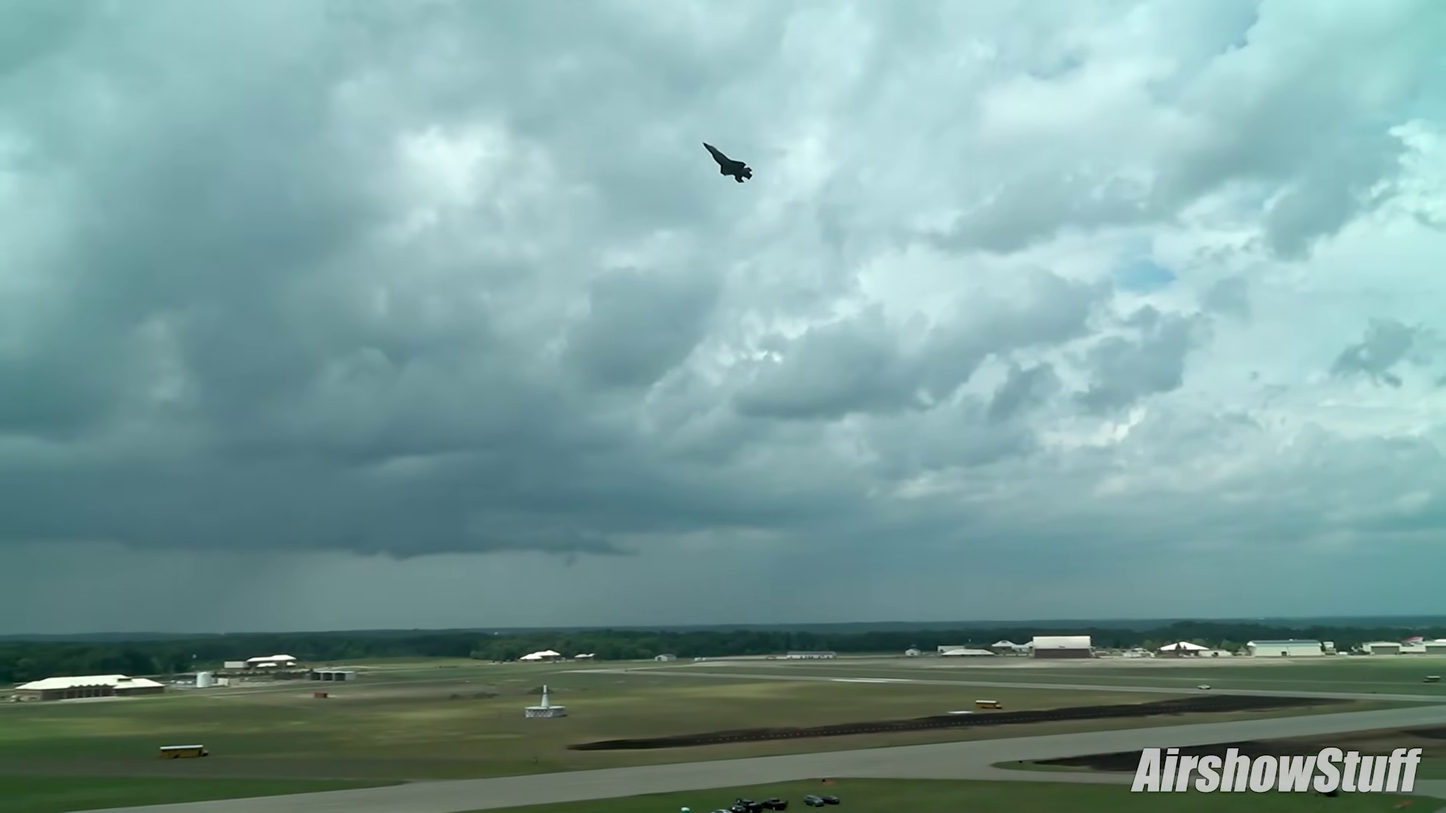F35: (700, 140, 757, 185)
